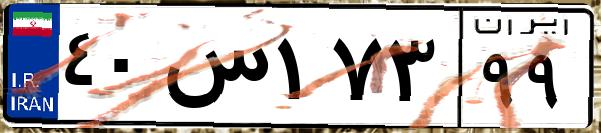0: (110, 28, 158, 98)
1: (270, 28, 330, 110)
3: (385, 28, 445, 110)
4: (57, 26, 110, 100)
7: (330, 28, 385, 110)
9: (475, 38, 525, 113), (525, 38, 570, 115)
س: (158, 20, 270, 120)
